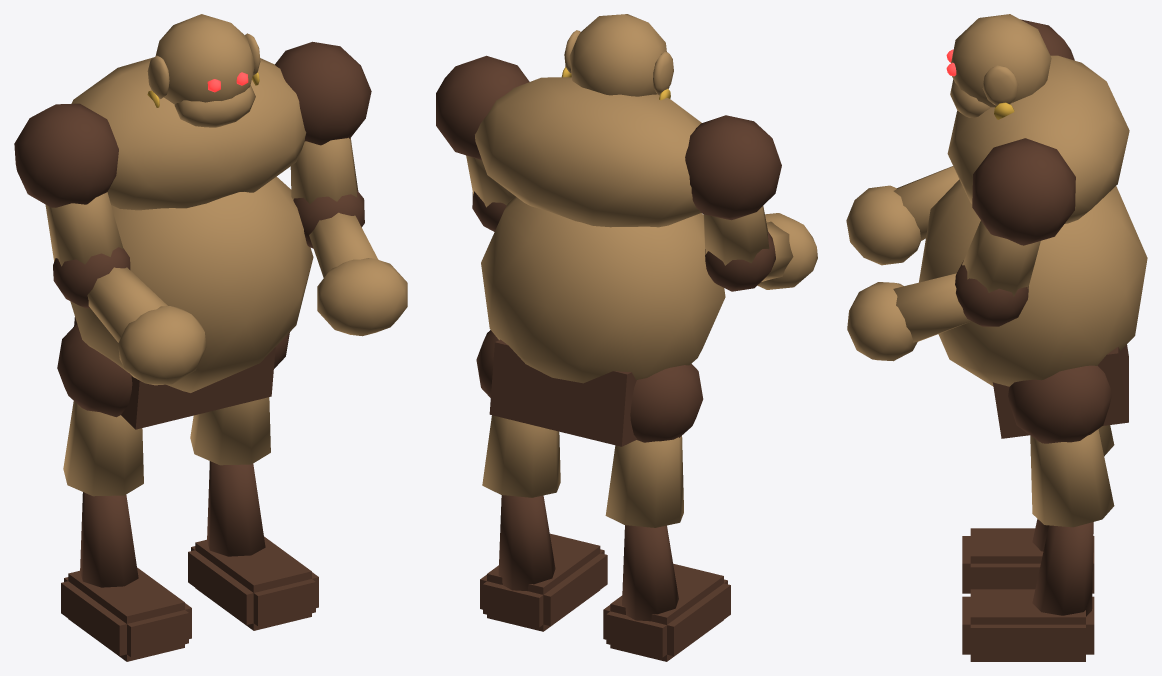
Rendered from elven-ogre.glb.
3 views of the same model, side by side, from view 1: azimuth 30°, elevation 25°; view 2: azimuth 150°, elevation 25°; view 3: azimuth 270°, elevation 25° (orthographic). The views are drawn at different scales.
Visible parts, largest first — view 1: Body Mesh, LegA 0 Knee Mesh, LegB 0 Knee Mesh, ArmR Mesh, ArmR Elbow Mesh, ArmL Mesh, LegB 0 Mesh, ArmL Elbow Mesh, Head Mesh, LegA 0 Mesh; view 2: Body Mesh, LegB 0 Knee Mesh, LegA 0 Knee Mesh, LegB 0 Mesh, ArmR Mesh, Head Mesh, ArmL Mesh, LegA 0 Mesh, ArmR Elbow Mesh, ArmL Elbow Mesh; view 3: Body Mesh, LegA 0 Knee Mesh, LegA 0 Mesh, ArmL Mesh, ArmL Elbow Mesh, Head Mesh, ArmR Elbow Mesh, LegB 0 Knee Mesh, ArmR Mesh.
Boxes of the visible parts, <box> form: Body Mesh: <box>70,57,313,429</box>; LegA 0 Knee Mesh: <box>188,461,318,630</box>; LegB 0 Knee Mesh: <box>61,492,191,661</box>; ArmR Mesh: <box>14,103,123,266</box>; ArmR Elbow Mesh: <box>53,247,206,385</box>; ArmL Mesh: <box>275,41,371,204</box>; LegB 0 Mesh: <box>57,324,143,496</box>; ArmL Elbow Mesh: <box>293,191,407,336</box>; Head Mesh: <box>147,14,260,127</box>; LegA 0 Mesh: <box>190,332,289,465</box>; Body Mesh: <box>475,77,725,446</box>; LegB 0 Knee Mesh: <box>603,525,730,661</box>; LegA 0 Knee Mesh: <box>480,495,607,631</box>; LegB 0 Mesh: <box>605,364,703,527</box>; ArmR Mesh: <box>685,115,781,265</box>; Head Mesh: <box>561,14,673,100</box>; ArmL Mesh: <box>436,55,529,207</box>; LegA 0 Mesh: <box>476,330,560,497</box>; ArmR Elbow Mesh: <box>705,213,817,291</box>; ArmL Elbow Mesh: <box>472,191,506,231</box>; Body Mesh: <box>919,55,1147,438</box>; LegA 0 Knee Mesh: <box>962,522,1094,661</box>; LegA 0 Mesh: <box>1008,365,1114,527</box>; ArmL Mesh: <box>962,138,1075,296</box>; ArmL Elbow Mesh: <box>847,260,1028,361</box>; Head Mesh: <box>946,14,1051,119</box>; ArmR Elbow Mesh: <box>846,166,959,265</box>; LegB 0 Knee Mesh: <box>962,519,1094,593</box>; ArmR Mesh: <box>1020,19,1074,60</box>.
Size of the model in its own units: 1.51 by 2.57 by 1.17.
